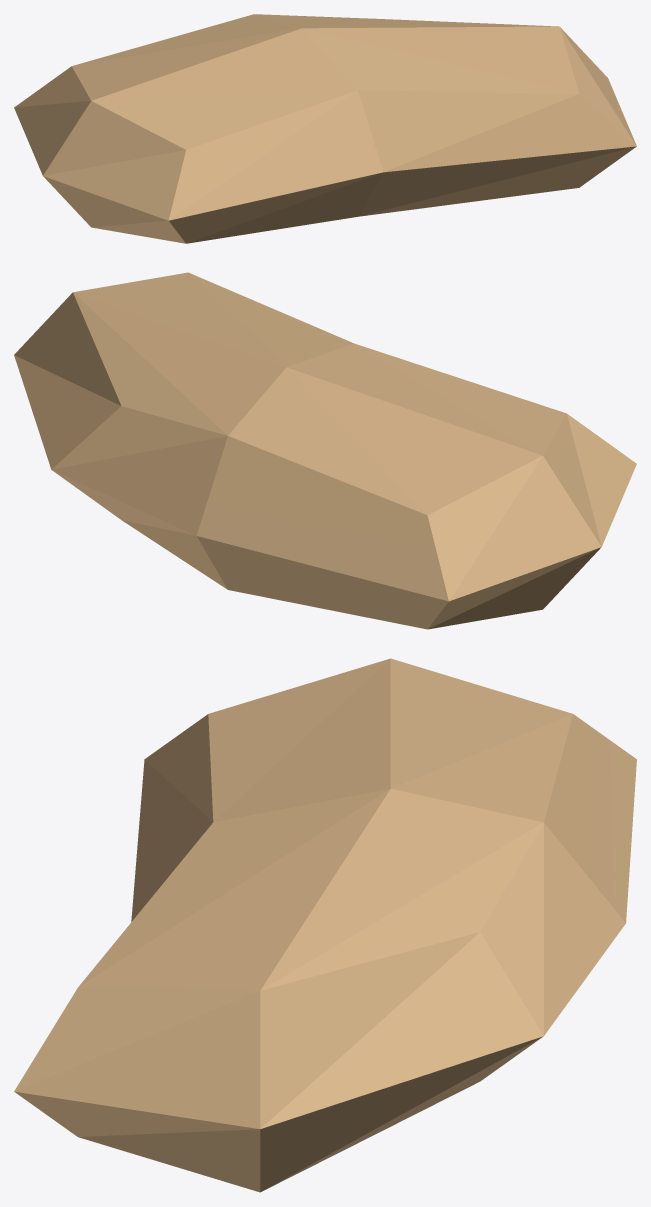
The model's file is 06 Big_stone_1.FBX.
3 renders of one model, top to bottom at view 1: azimuth 30°, elevation 25°; view 2: azimuth 150°, elevation 25°; view 3: azimuth 270°, elevation 25°, orthographic. The views are drawn at different scales.
Parts seen in each view (by area): view 1: Stone_lit_033; view 2: Stone_lit_033; view 3: Stone_lit_033.
Boxes of the visible parts, box(x1,y1,x2,y2) form: Stone_lit_033: box(14, 14, 636, 243); Stone_lit_033: box(14, 272, 636, 629); Stone_lit_033: box(14, 658, 636, 1192).
Bounding box in the file's own units: 1143 × 352 × 738.
